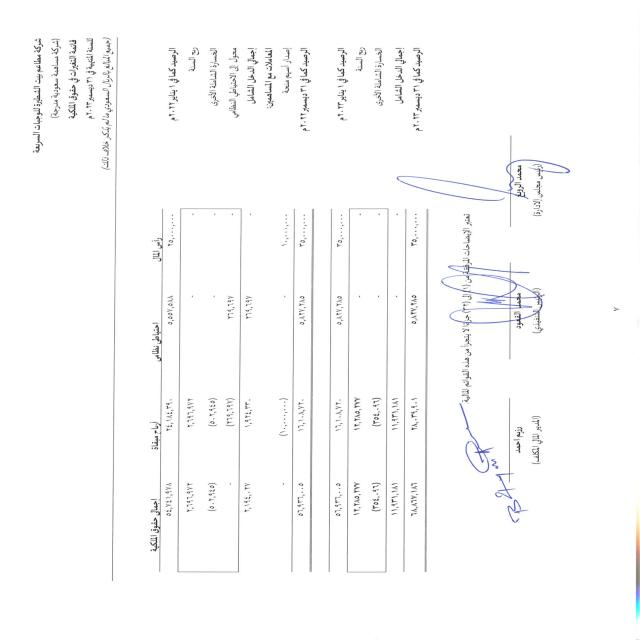financial_sheets: (67, 36, 78, 123)
table: (135, 195, 444, 603)
